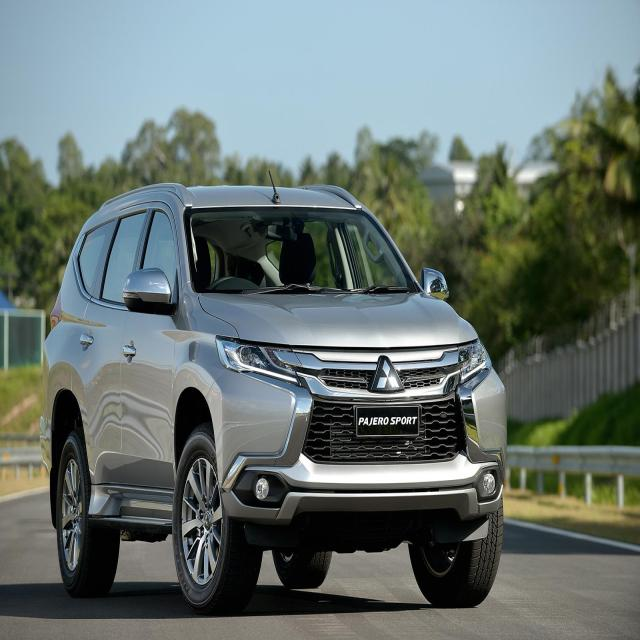light_vehicle: (39, 171, 508, 614)
